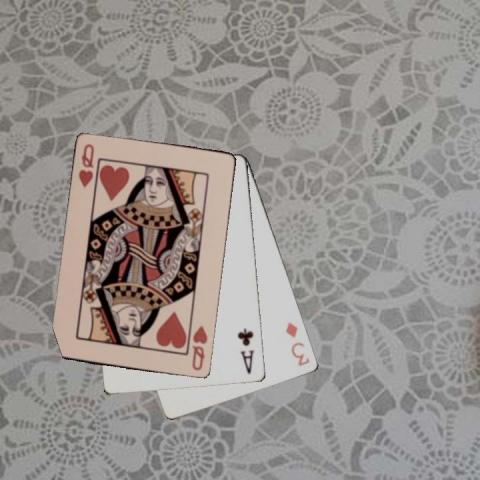3d: (284, 319, 312, 368)
Ac: (236, 326, 256, 376)
Qh: (75, 142, 96, 190), (190, 323, 210, 373)
